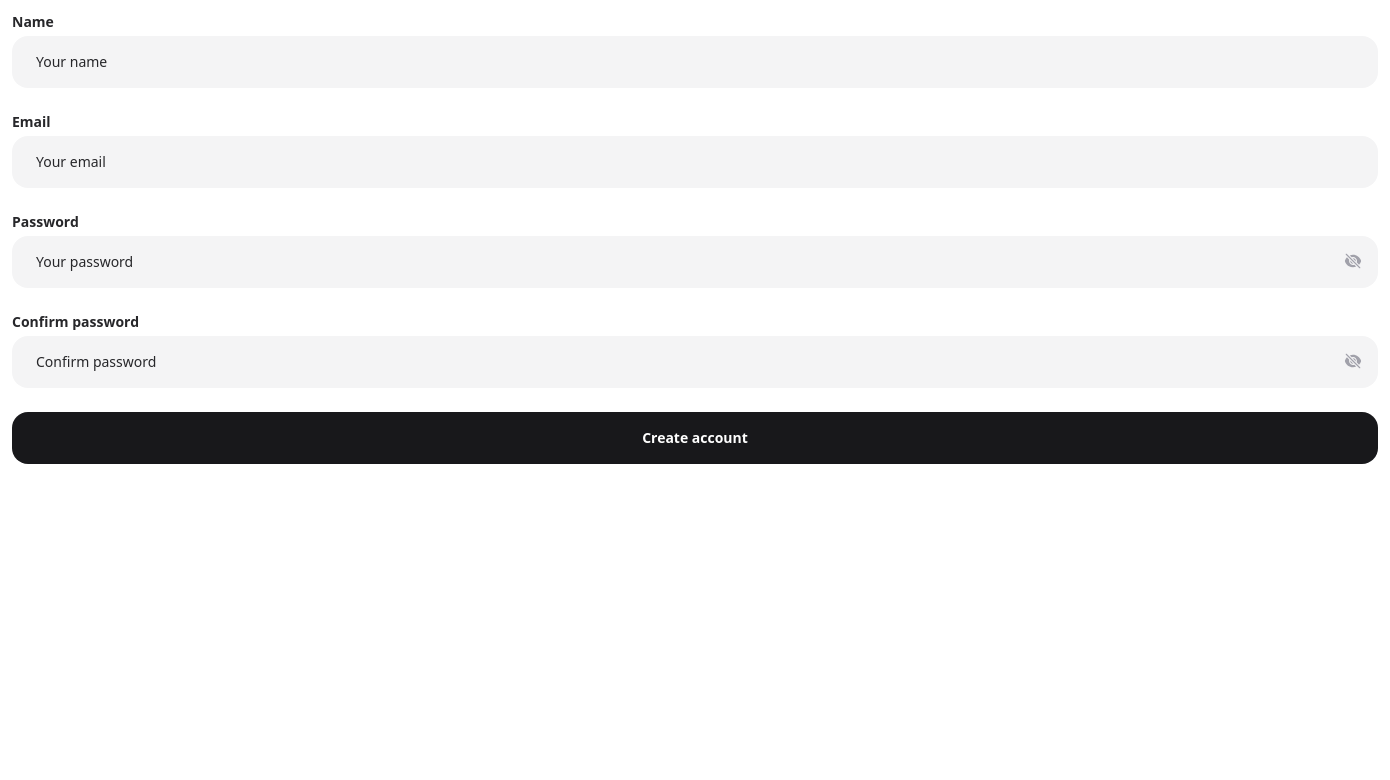
Test: RegisterForm › displays validation errors for invalid inputs
Click the button "Create account" at (695, 438), box [12,412,1378,464]
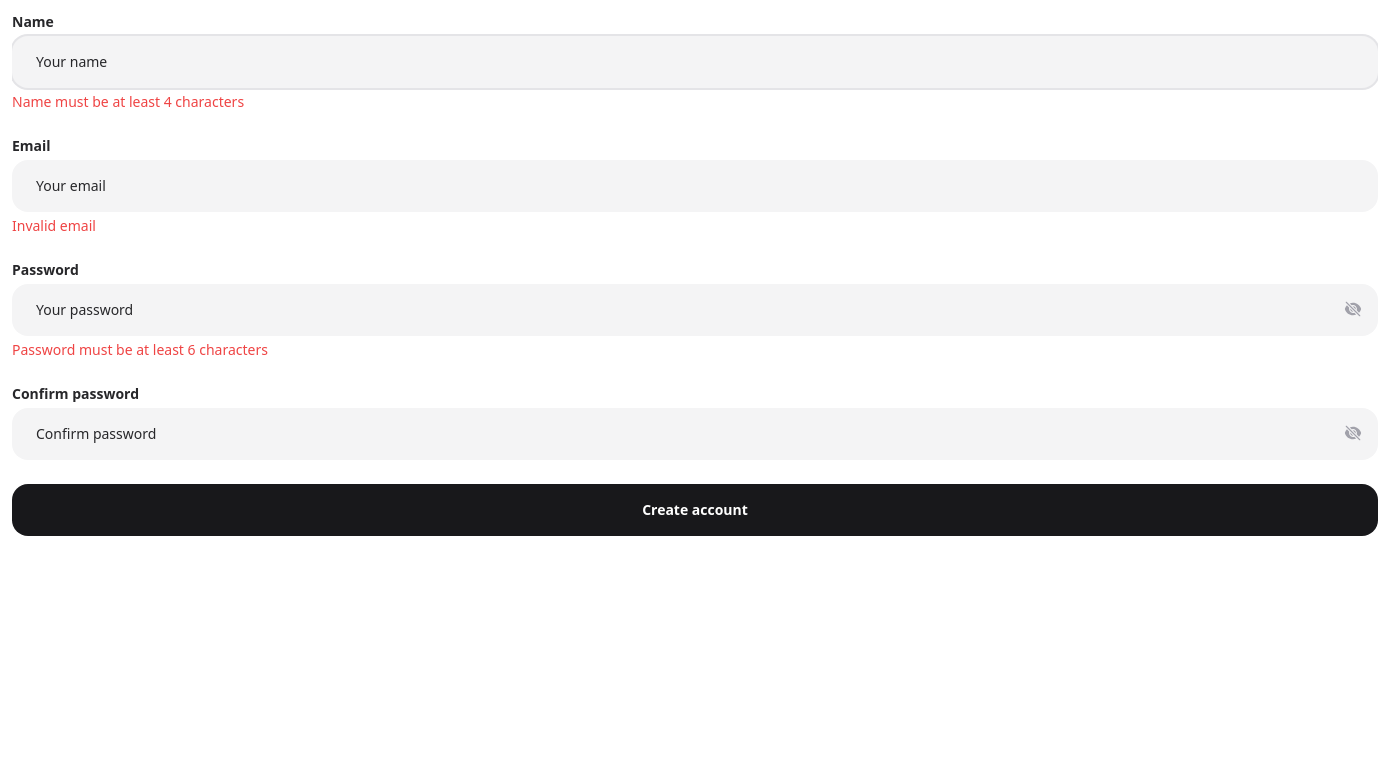
Expected: the text "Name must be at least 4 characters" is shown, [12,92,244,111]
Expected: the text "Invalid email" is shown, [12,216,96,235]
Expected: the text "Password must be at least 6 characters" is shown, [12,340,268,359]
